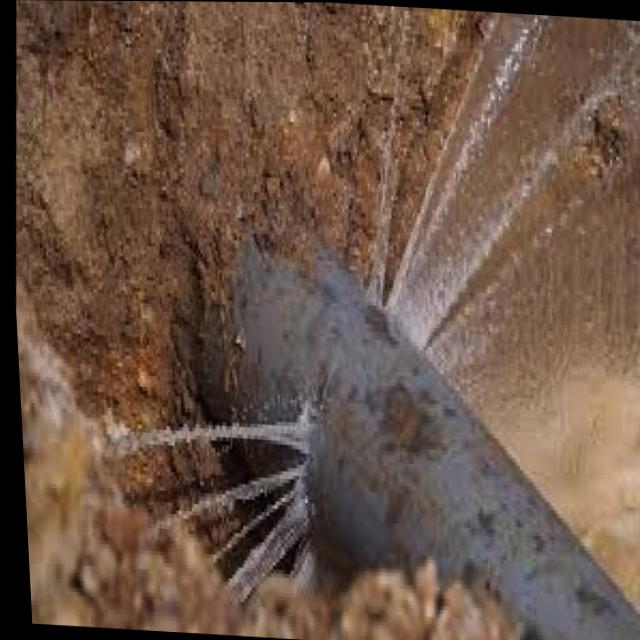leak: (384, 14, 561, 351), (120, 391, 325, 591), (351, 305, 403, 349)
